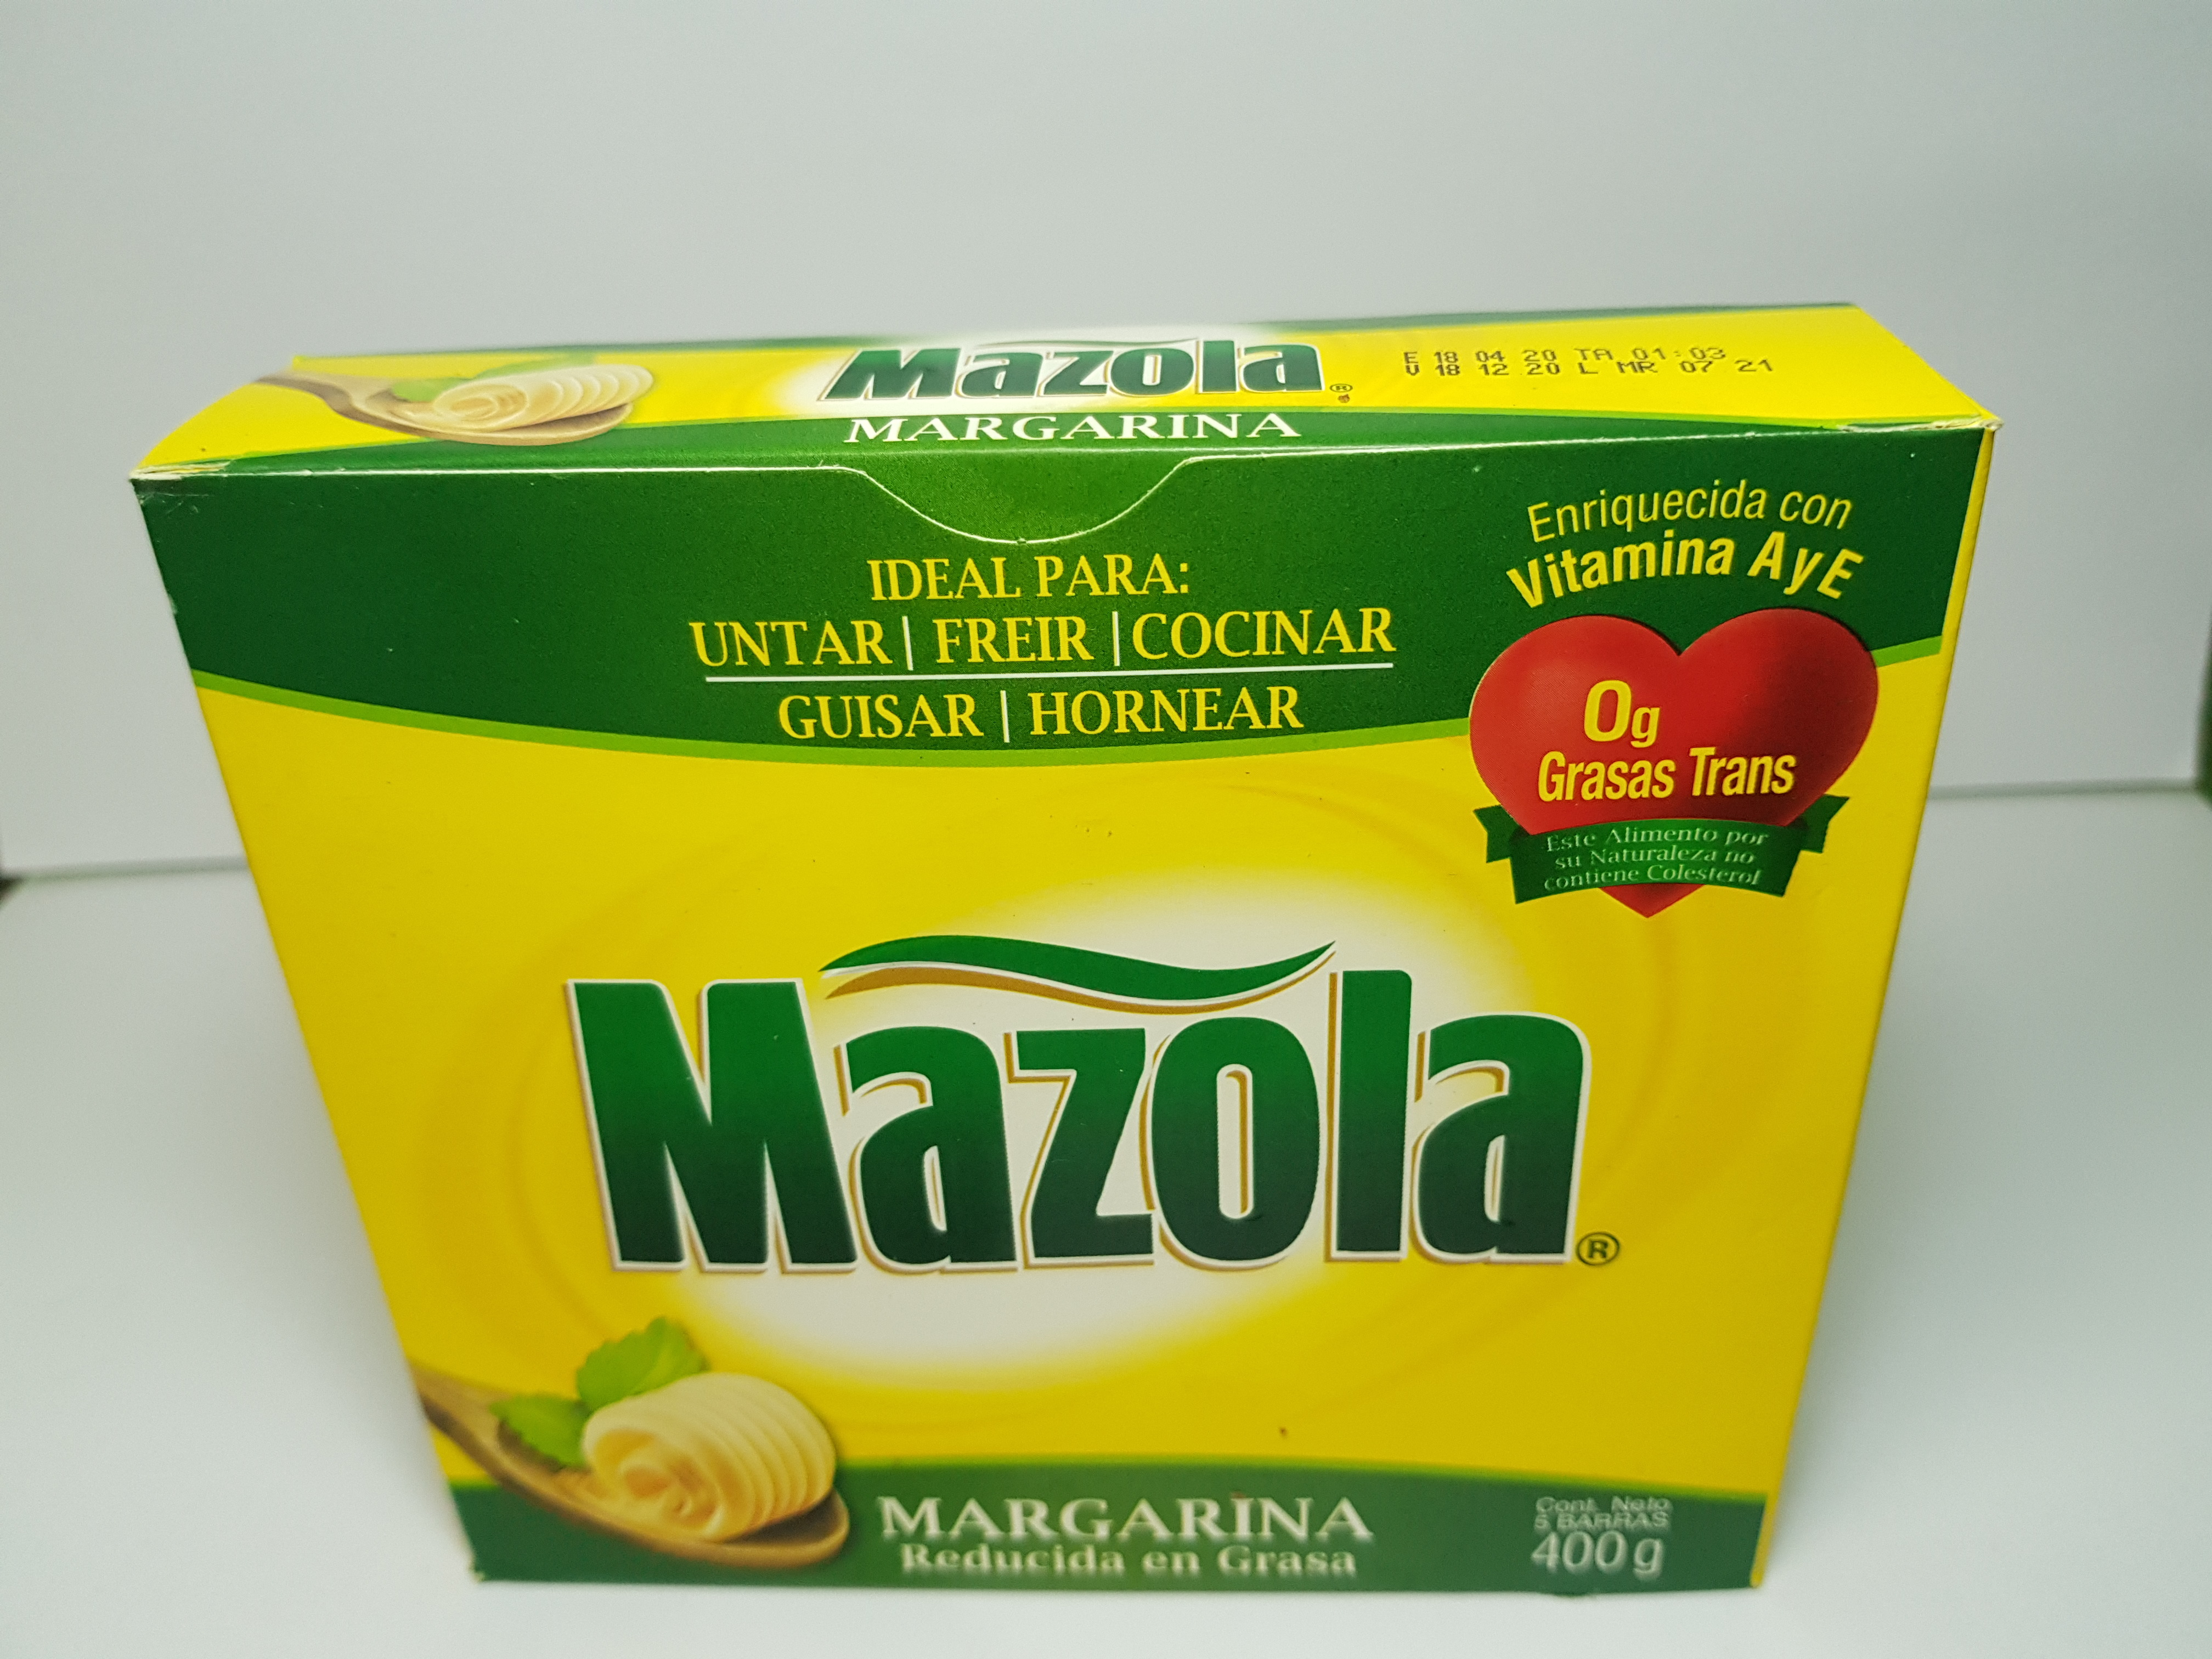mazola: (115, 251, 2013, 1656)
